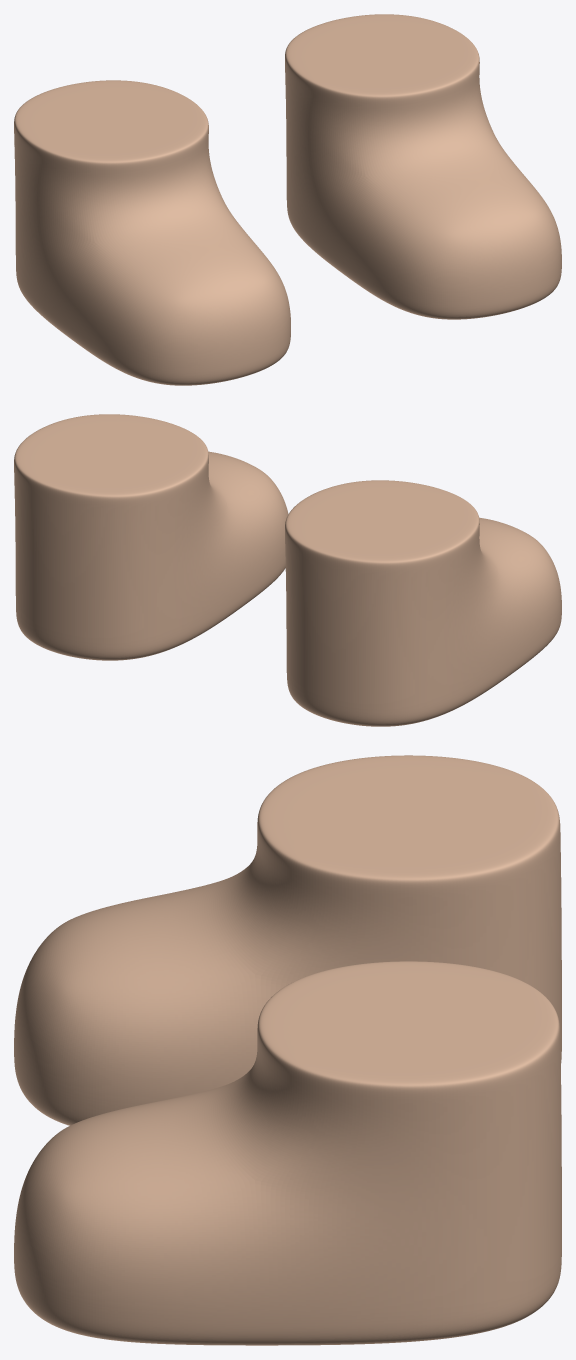
File: PIES_M.glb
3 views of the same model, one above another, from view 1: azimuth 30°, elevation 25°; view 2: azimuth 150°, elevation 25°; view 3: azimuth 270°, elevation 25° (orthographic). The views are drawn at different scales.
Visible parts, largest first — view 1: Cube.067; view 2: Cube.067; view 3: Cube.067.
Boxes of the visible parts, left/top/right/bottom form: Cube.067: left=14, top=14, right=561, bottom=385; Cube.067: left=14, top=414, right=561, bottom=726; Cube.067: left=14, top=755, right=561, bottom=1345.
Bounding box in the file's own units: 1.69 × 0.6213 × 1.15.
